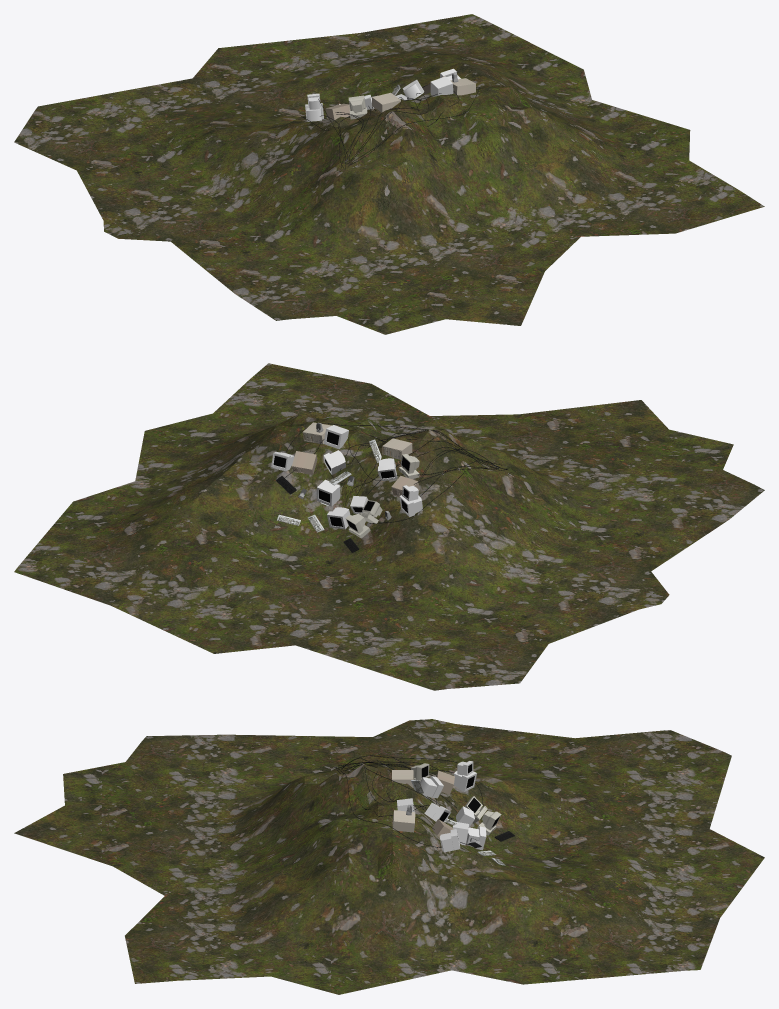
File: portfolio-model_004-optimized.glb
3 renders of one model, top to bottom at view 1: azimuth 30°, elevation 25°; view 2: azimuth 150°, elevation 25°; view 3: azimuth 270°, elevation 25°, orthographic. The views are drawn at different scales.
Parts seen in each view (by area): view 1: Landscape.002, BézierCurve.001; view 2: Landscape.002, BézierCurve.001; view 3: Landscape.002, BézierCurve.001.
Boxes of the visible parts, bbox=[...] form: Landscape.002: bbox=[14, 14, 764, 334]; BézierCurve.001: bbox=[302, 87, 479, 171]; Landscape.002: bbox=[14, 363, 764, 690]; BézierCurve.001: bbox=[285, 423, 511, 523]; Landscape.002: bbox=[14, 719, 764, 994]; BézierCurve.001: bbox=[334, 755, 483, 847].
Bounding box in the file's own units: 72 × 10.87 × 82.17.
11 materials, 4 textured.
